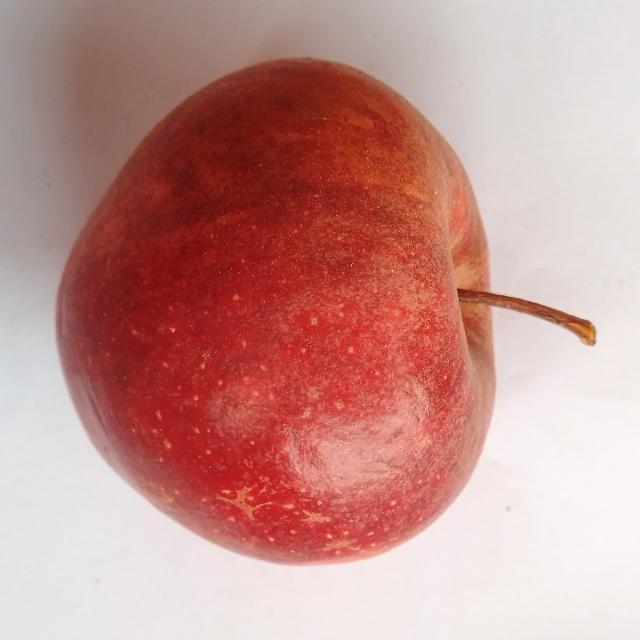Fresh Apple: (47, 55, 503, 575)
